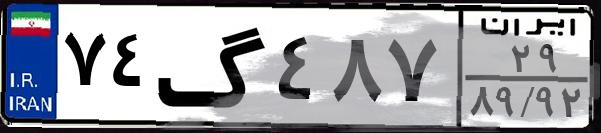2: (560, 70, 590, 125), (508, 27, 537, 80)
4: (270, 28, 330, 110), (110, 28, 156, 98)
7: (385, 28, 445, 110), (57, 26, 110, 100)
8: (330, 28, 385, 110), (470, 70, 495, 125)
9: (537, 27, 568, 80), (495, 70, 520, 125), (535, 70, 560, 125)
گ: (156, 12, 270, 120)
